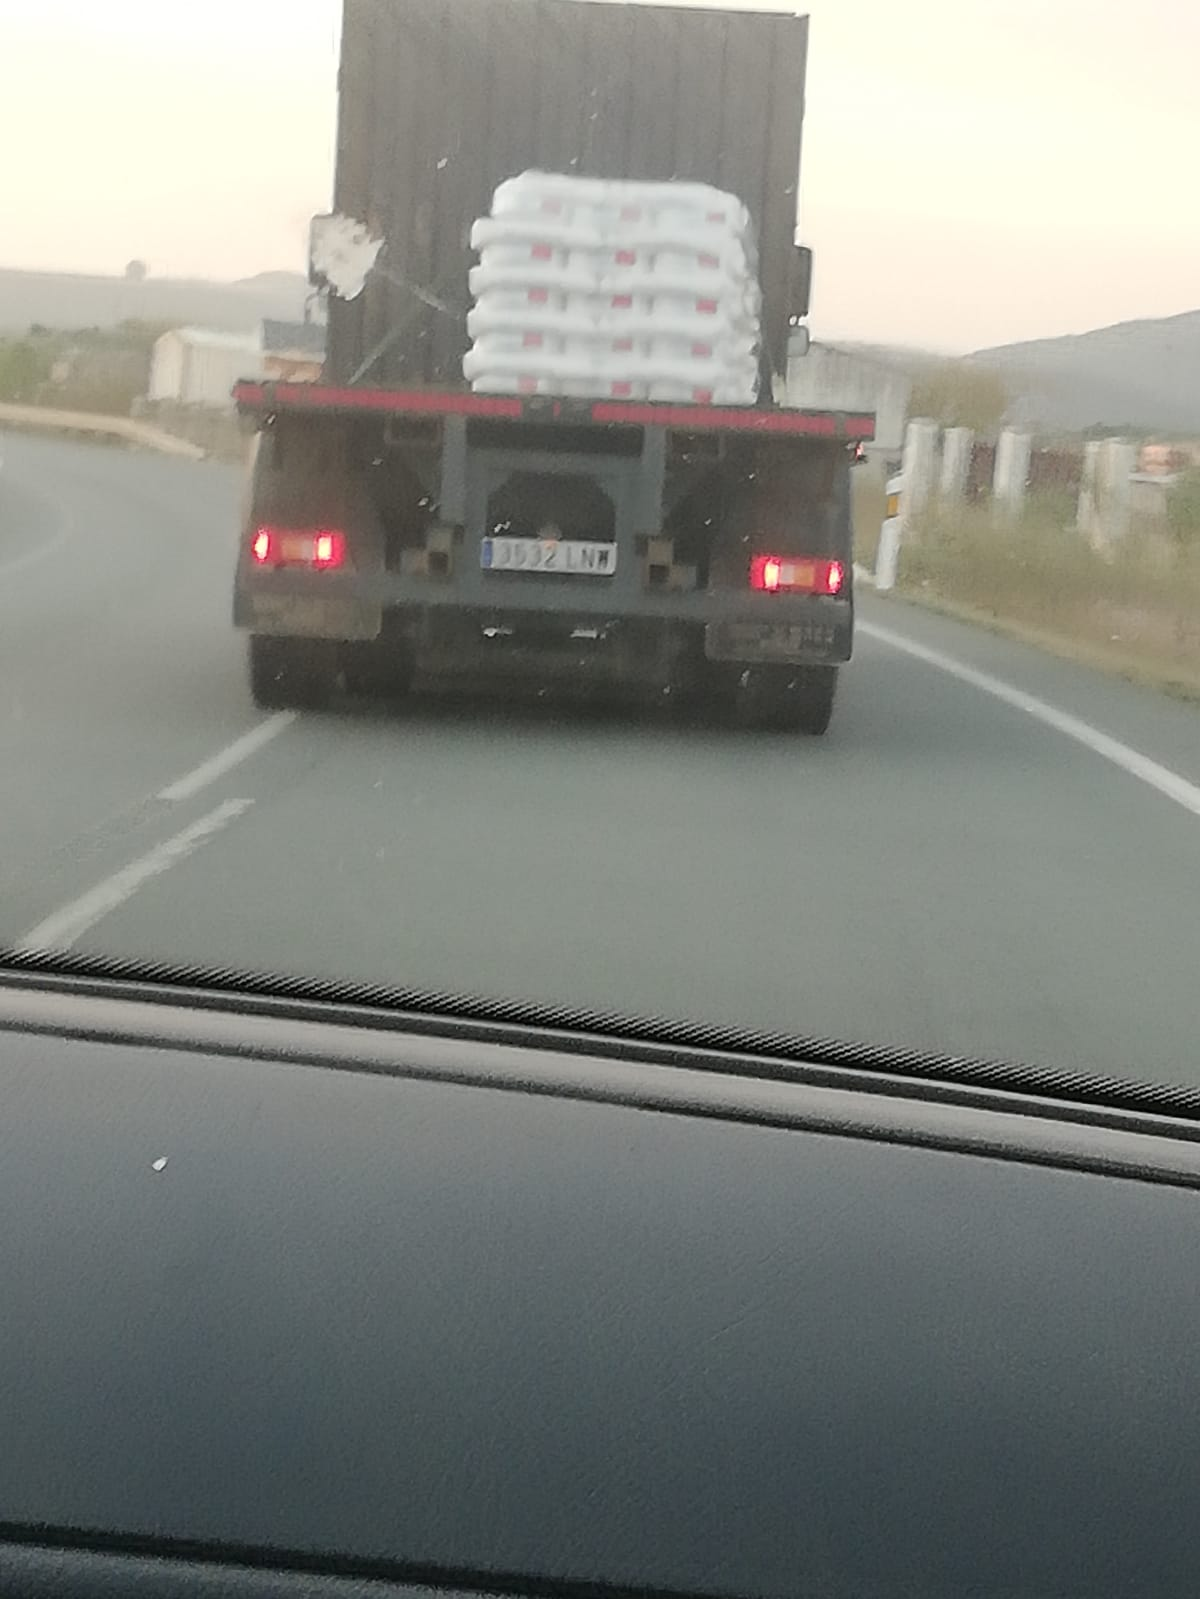Car: (239, 9, 874, 748)
Plate: (480, 531, 616, 570)
